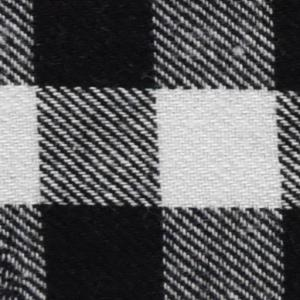Damage: (1, 220, 27, 300)
